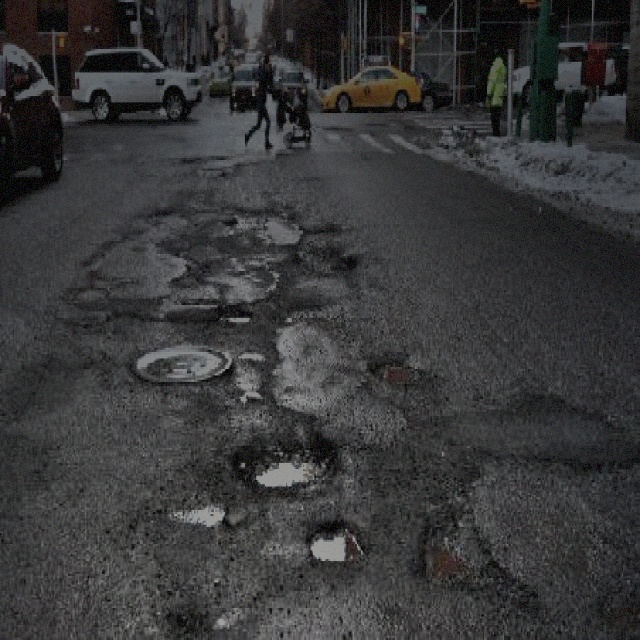pothole: (238, 435, 337, 495), (413, 518, 476, 589), (304, 512, 367, 567), (367, 352, 432, 388), (221, 305, 253, 324)
